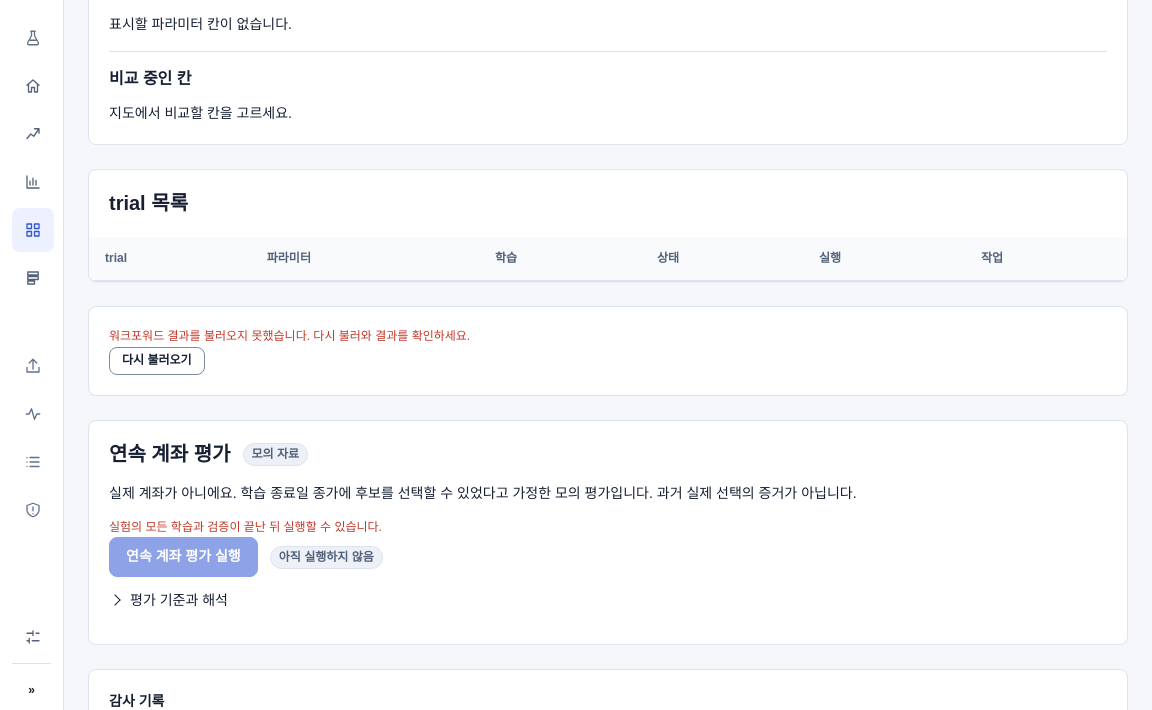
Test: experiments › 워크포워드 조회 실패를 보이고 다시 불러오면 서버 해석과 결과를 복구한다
(page scrolled)
Check: the message shows "워크포워드 결과를 불러오지 못했습니다", box [109,330,470,344]
Check: the text "표본 밖 샤프" is not shown
Click the button "다시 불러오기" at [157, 361], box [109,347,205,375]
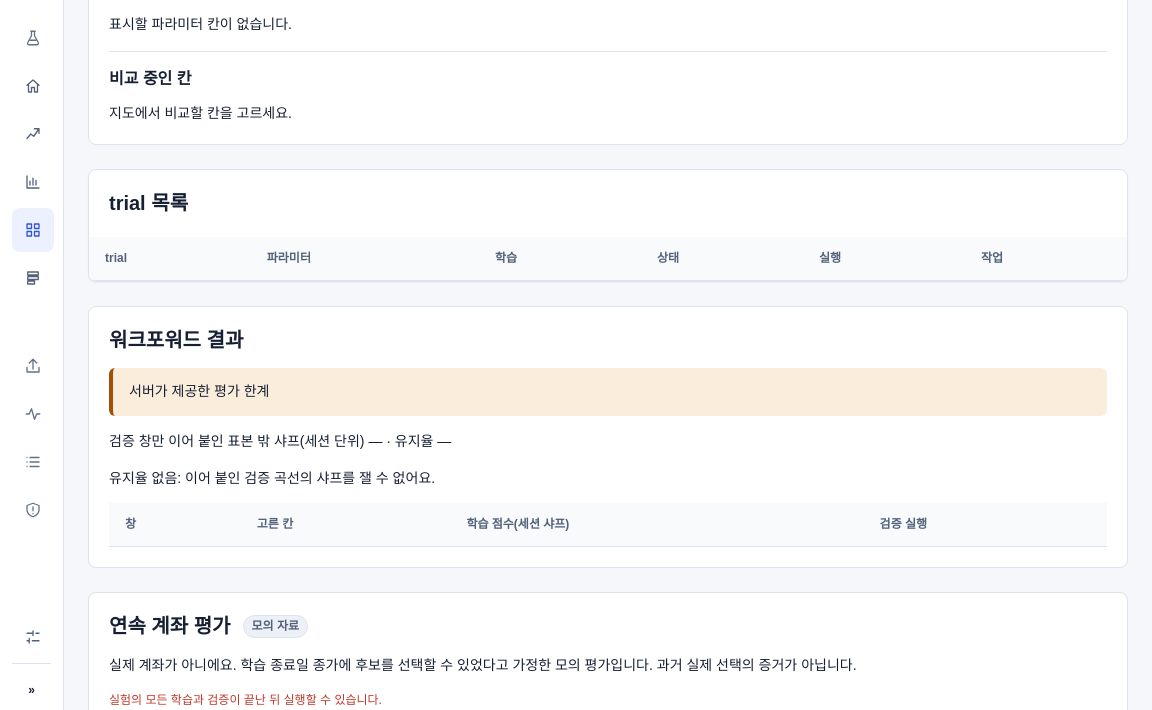
Check: the text "서버가 제공한 평가 한계" is shown, box [109,368,1107,416]
Check: the message "워크포워드 결과를 불러오지 못했습니다. 다시 불러와 결과를 확인하세요." is gone
Check: the text "검증 창만 이어 붙인 표본 밖 샤프(세션 단위) — · 유지율 —" is shown, box [109,433,451,449]
